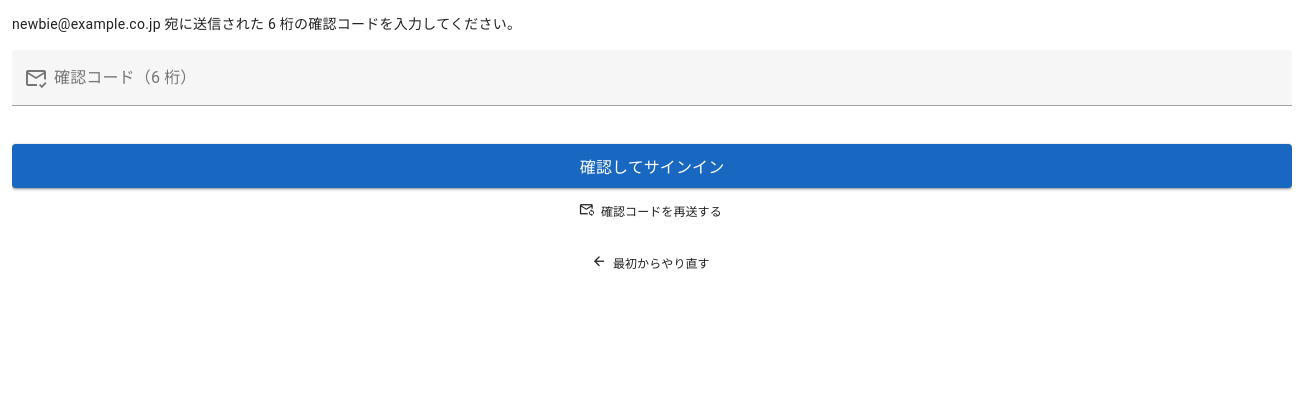
it: LoginView › pending.kind='confirm-signup' は pending の username を使い、確認後はパスワード入力へ戻る
Type "123456" into the field labelled "確認コード（6 桁）" at (670, 78), box [48,50,1292,106]
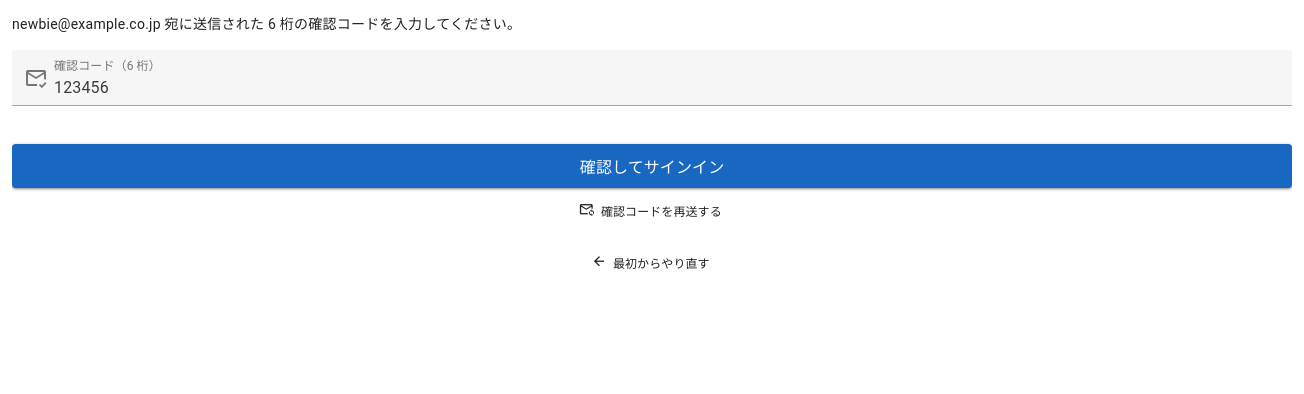
Submit the form, box [12,14,1292,224]
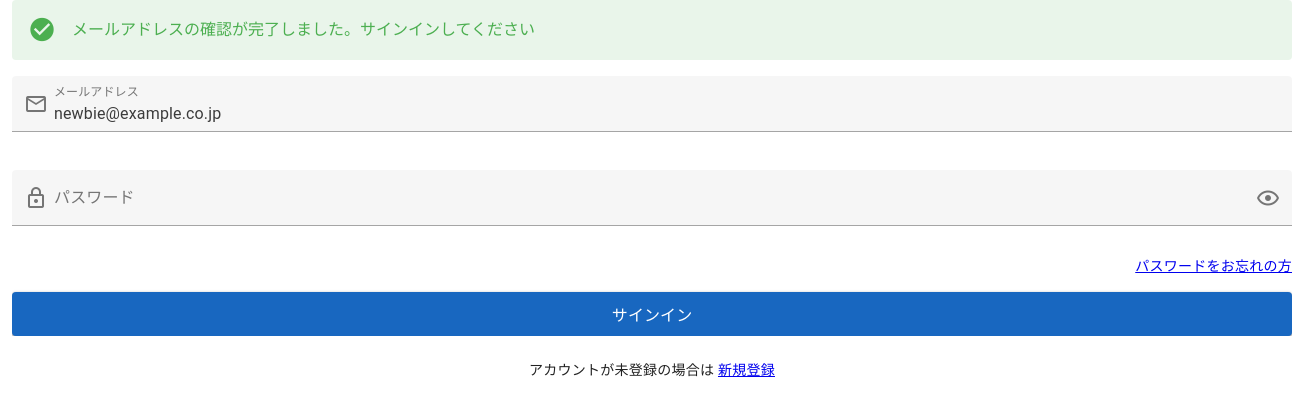
Result: the text "サインインしてください" is shown at [72,20,535,39]
